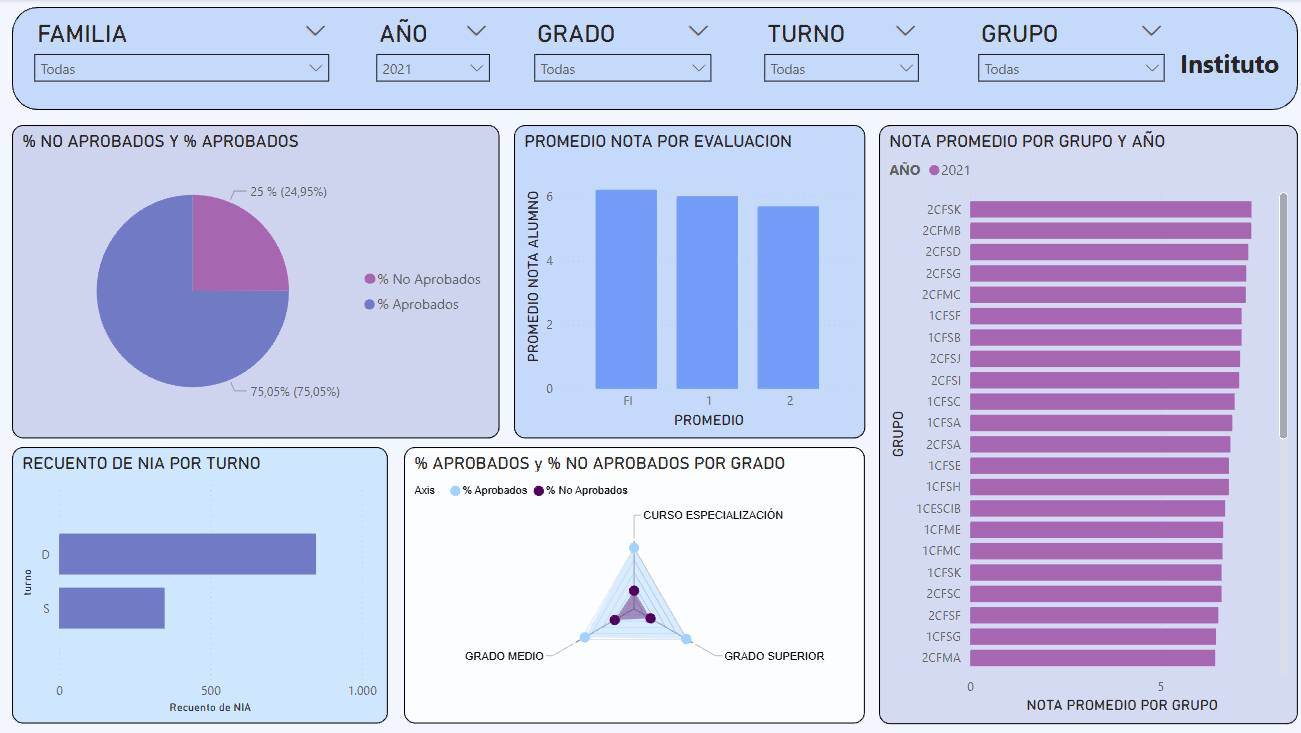

The page's visual inventory and layout, read from the dashboard file:
{"tool":"powerbi","page":{"name":"Página 1","canvas":[1280,720],"ordinal":0},"visuals":[{"type":"shape","box":[11.7,7.8,1255.6,100.6],"z":0},{"type":"slicer","fields":{"Values":["institutos_itaca alumnos.anyo"]},"box":[357.3,14.6,130.8,84],"z":1000},{"type":"slicer","fields":{"Values":["institutos_itaca alumnos.turno"]},"box":[736.3,14.6,171.2,83.6],"z":2000},{"type":"slicer","fields":{"Values":["institutos_itaca alumnos.grado"]},"box":[511.6,14.6,193.3,84],"z":3000},{"type":"slicer","fields":{"Values":["institutos_itaca alumnos.familia"]},"box":[23.4,14.6,307.6,84],"z":4000},{"type":"textbox","box":[1147.2,41,120.1,49.8],"z":5000},{"type":"pieChart","title":"% NO APROBADOS Y % APROBADOS","fields":{"Y":["institutos_itaca calificaciones.% No Aprobados","institutos_itaca calificaciones.% Aprobados"]},"box":[11.7,123,476.5,305.6],"z":6000},{"type":"barChart","title":"RECUENTO DE NIA POR TURNO","fields":{"Category":["institutos_itaca alumnos.turno"],"Y":["CountNonNull(institutos_itaca alumnos.NIA)"]},"box":[11.7,437.4,367.1,270.5],"z":7000},{"type":"clusteredColumnChart","title":"PROMEDIO NOTA POR EVALUACION","fields":{"Category":["institutos_itaca calificaciones.evaluacion"],"Y":["institutos_itaca calificaciones.Promedio_Alumno_Evaluacion"]},"box":[501.8,123,342.7,305.6],"z":8000},{"type":"slicer","fields":{"Values":["institutos_itaca alumnos.grupo"]},"box":[945.4,14.6,202.3,83.6],"z":9000},{"type":"RadarChart1446119667547","title":"% APROBADOS y % NO APROBADOS POR GRADO","fields":{"Y":["institutos_itaca calificaciones.% Aprobados","institutos_itaca calificaciones.% No Aprobados"],"Category":["institutos_itaca alumnos.grado"]},"box":[394.4,437.4,450.1,270.5],"z":10000},{"type":"clusteredBarChart","title":"NOTA PROMEDIO POR GRUPO Y AÑO","fields":{"Category":["institutos_itaca alumnos.grupo"],"Y":["institutos_itaca calificaciones.PromedioNotaPorGrado"],"Series":["institutos_itaca calificaciones.anyo"]},"box":[858.2,123,409.1,584.8],"z":11000}]}

Visuals, with their boxes in screenshot pixels (x1, y1, x2, y2), scaled from the page's 1280x720 canvas onto the 1301x733 screenshot:
shape: <region>12, 8, 1288, 110</region>
slicer - institutos_itaca alumnos.anyo: <region>363, 15, 496, 100</region>
slicer - institutos_itaca alumnos.turno: <region>748, 15, 922, 100</region>
slicer - institutos_itaca alumnos.grado: <region>520, 15, 716, 100</region>
slicer - institutos_itaca alumnos.familia: <region>24, 15, 336, 100</region>
textbox: <region>1166, 42, 1288, 92</region>
"% NO APROBADOS Y % APROBADOS" pieChart: <region>12, 125, 496, 436</region>
"RECUENTO DE NIA POR TURNO" barChart: <region>12, 445, 385, 721</region>
"PROMEDIO NOTA POR EVALUACION" clusteredColumnChart: <region>510, 125, 858, 436</region>
slicer - institutos_itaca alumnos.grupo: <region>961, 15, 1167, 100</region>
"% APROBADOS y % NO APROBADOS POR GRADO" RadarChart1446119667547: <region>401, 445, 858, 721</region>
"NOTA PROMEDIO POR GRUPO Y AÑO" clusteredBarChart: <region>872, 125, 1288, 721</region>
